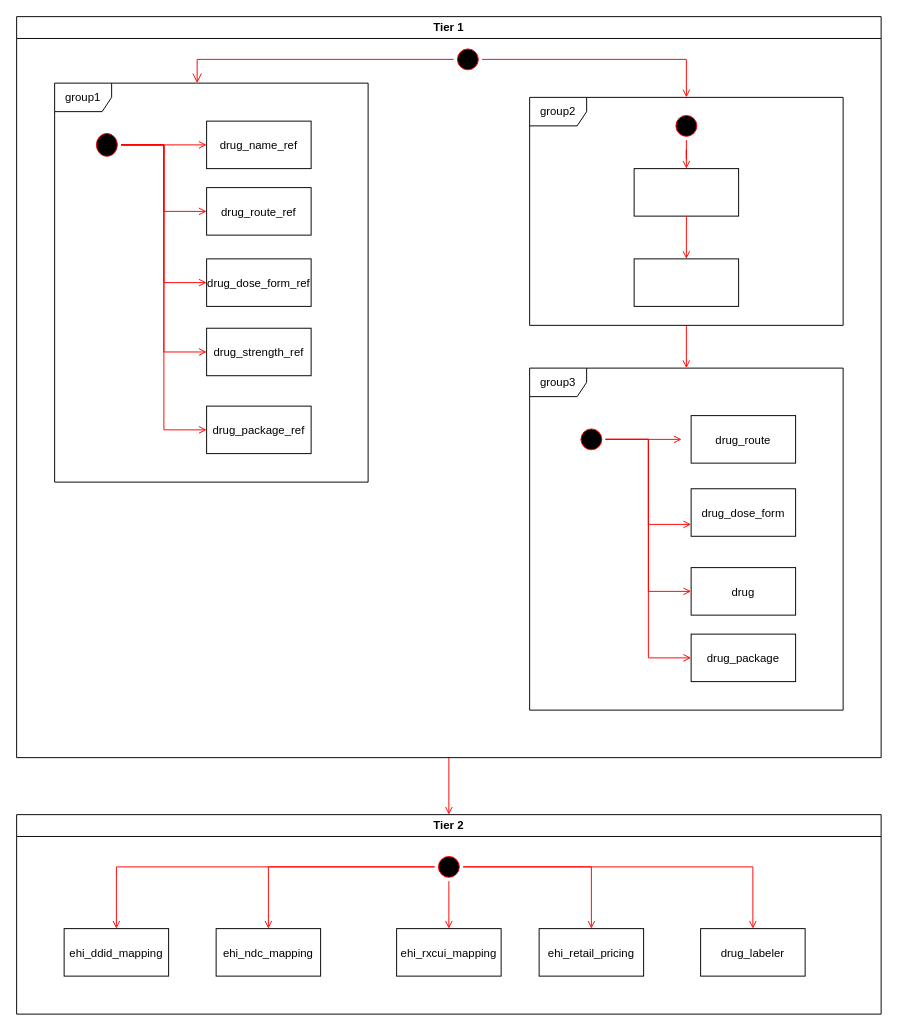
Image size: 898x1031. Some labels were removed from this diagram. Here are the shapes that lost their labels. From the top down, the centre of each, then its label:
point (686, 192): drug_ingredient & drug_ingredient_ref
point (686, 282): drug_name
